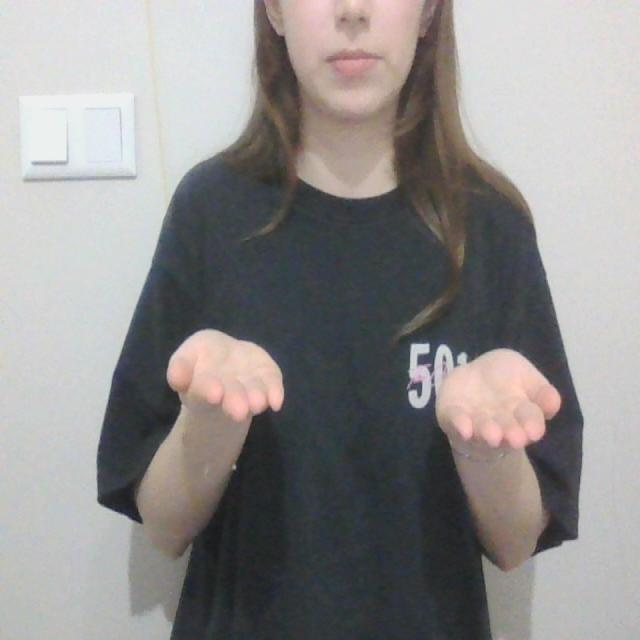Evet: (163, 322, 568, 473)
